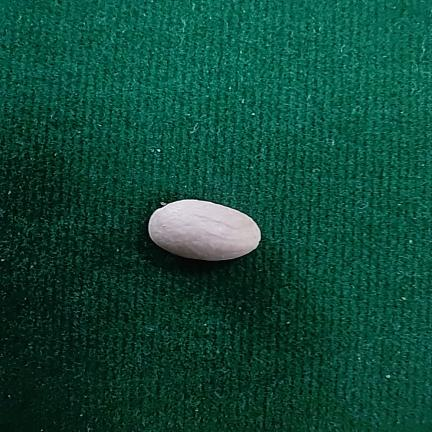immature: (148, 199, 261, 261)
